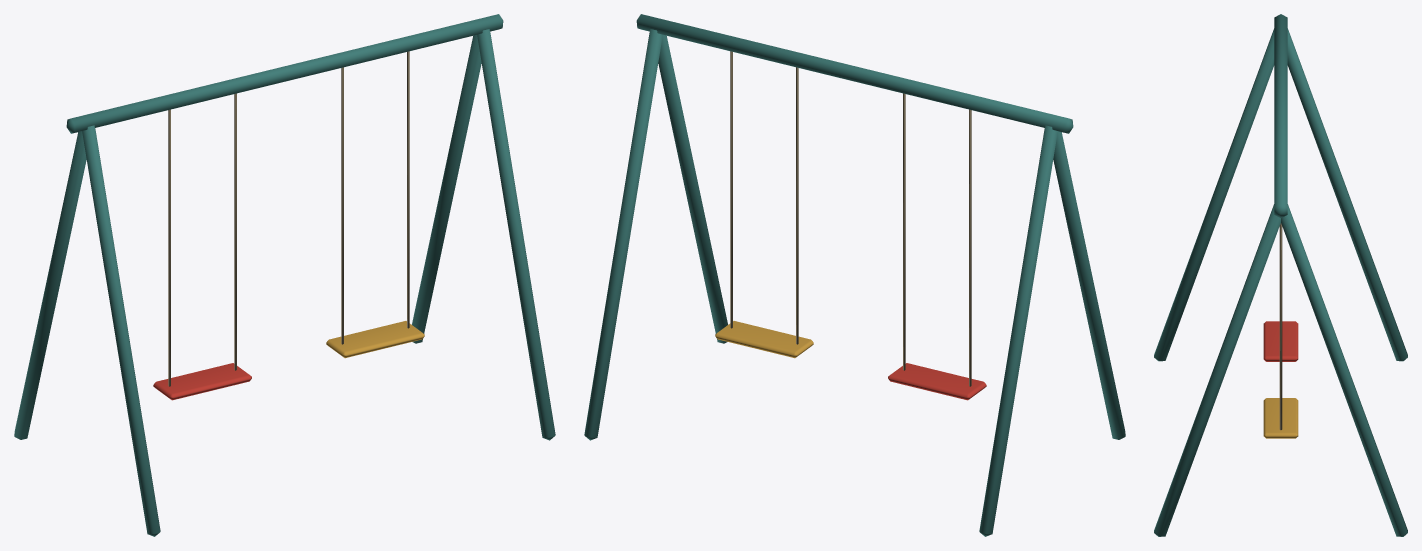
The model's file is swing_set.glb.
3 views of the same model, side by side, from view 1: azimuth 30°, elevation 25°; view 2: azimuth 150°, elevation 25°; view 3: azimuth 270°, elevation 25° (orthographic). The views are drawn at different scales.
Visible parts, largest first — view 1: swing_set, swing, swing_2; view 2: swing_set, swing, swing_2; view 3: swing_set, swing_2, swing.
Boxes of the visible parts, x1,y1,x2,y2 form: swing_set: (14, 14, 555, 536); swing: (153, 93, 251, 400); swing_2: (326, 51, 424, 358); swing_set: (584, 14, 1125, 536); swing: (888, 93, 986, 400); swing_2: (715, 51, 813, 358); swing_set: (1154, 14, 1407, 536); swing_2: (1263, 223, 1298, 438); swing: (1263, 321, 1298, 361).
Bounding box in the file's own units: 2.65 × 2.17 × 1.47.
